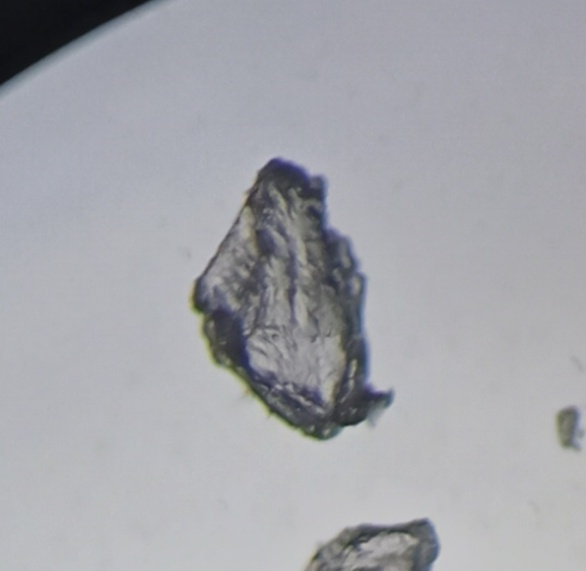microplastic: (179, 145, 402, 445)
